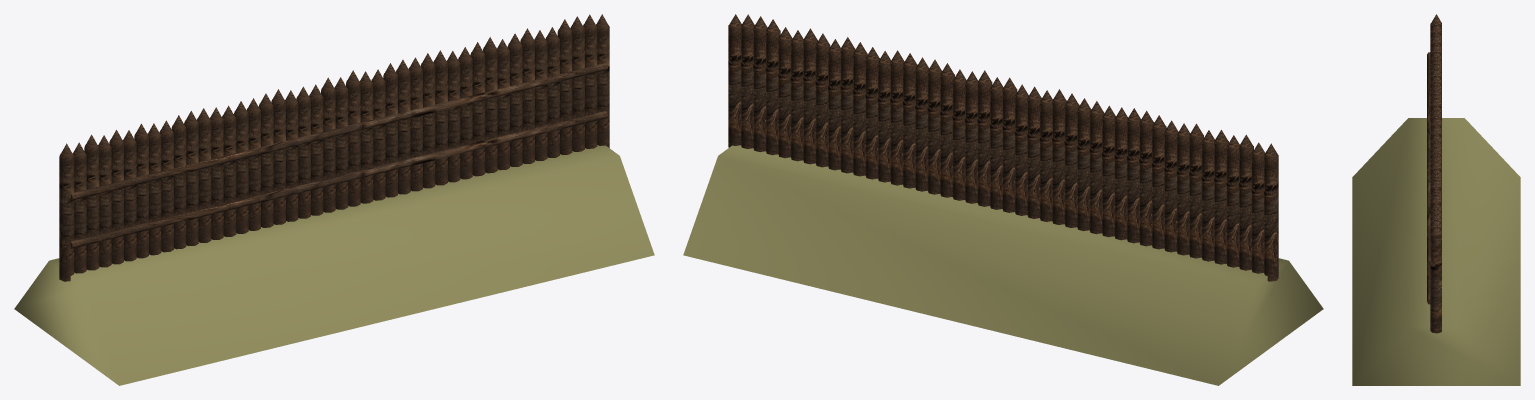
The model's file is palisade-tier2.glb.
The picture shows the model from 3 angles, left to right: view 1: azimuth 30°, elevation 25°; view 2: azimuth 150°, elevation 25°; view 3: azimuth 270°, elevation 25°; orthographic projection. The views are drawn at different scales.
Parts seen in each view (by area): view 1: part_0, part_1; view 2: part_1, part_0; view 3: part_0, part_1.
Boxes of the visible parts, bbox=[...] form: part_0: bbox=[14, 145, 654, 385]; part_1: bbox=[59, 14, 609, 281]; part_1: bbox=[728, 14, 1278, 281]; part_0: bbox=[683, 145, 1323, 385]; part_0: bbox=[1352, 118, 1520, 385]; part_1: bbox=[1427, 14, 1441, 333].
Size of the model in its own units: 7.53 by 2.72 by 2.5.
2 materials, 1 textured.
